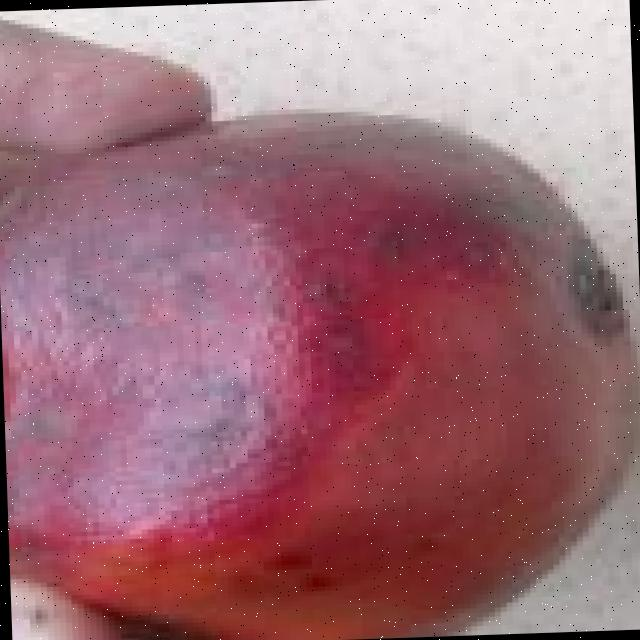Bad_Pomegranate-0-1-day: (0, 111, 635, 640)
